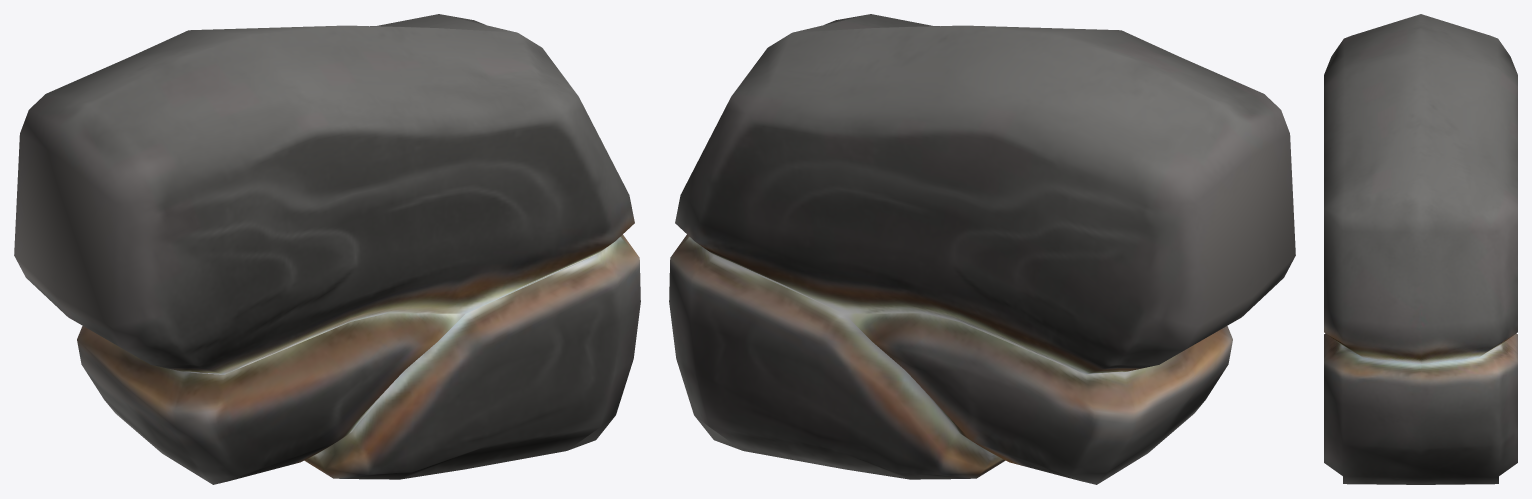
Rendered from Ore_BrownRock_low.glb.
3 renders of one model, left to right at view 1: azimuth 30°, elevation 25°; view 2: azimuth 150°, elevation 25°; view 3: azimuth 270°, elevation 25°, orthographic. The views are drawn at different scales.
Parts seen in each view (by area): view 1: Ore_BrownRock_low; view 2: Ore_BrownRock_low; view 3: Ore_BrownRock_low.
Part boxes in pixels (box(x1,y1,x2,y2)): Ore_BrownRock_low: box(14, 14, 640, 484); Ore_BrownRock_low: box(669, 14, 1295, 484); Ore_BrownRock_low: box(1324, 14, 1517, 484).
Bounding box in the file's own units: 0.2208 × 0.1685 × 0.0899.
Materials: 1 (1 with a texture image).
